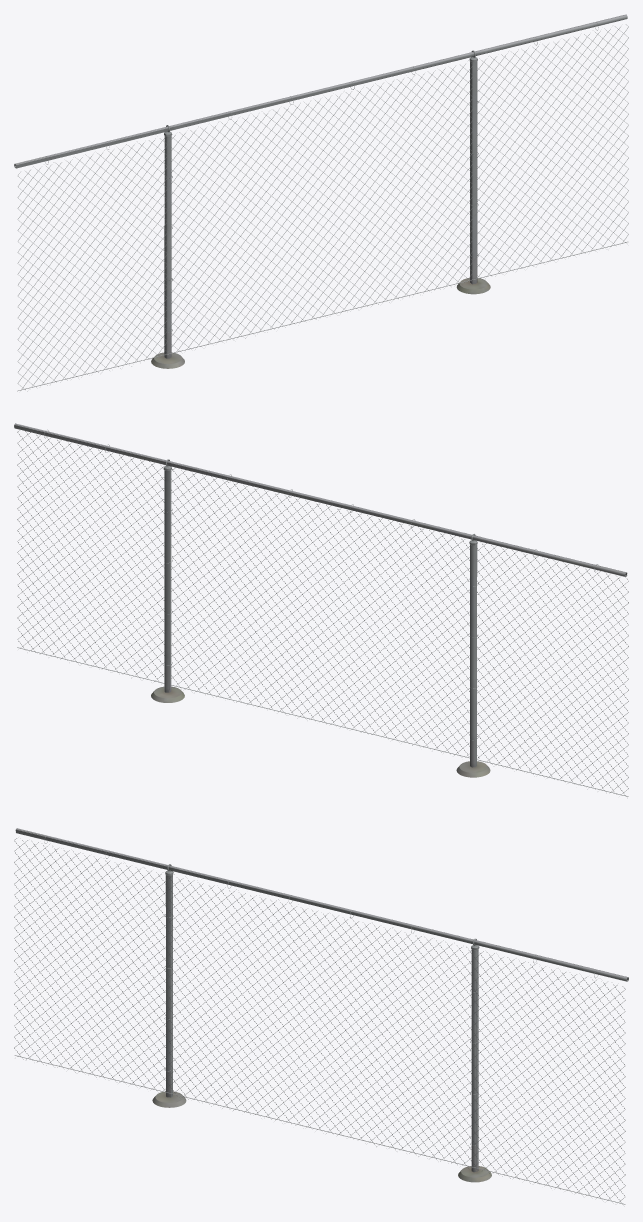
Rendered from chain-link-fence-light.glb.
3 views of the same model, one above another, from view 1: azimuth 30°, elevation 25°; view 2: azimuth 150°, elevation 25°; view 3: azimuth 330°, elevation 25° (orthographic).
Visible parts, largest first — view 1: chain-link-fence_body; view 2: chain-link-fence_body; view 3: chain-link-fence_body.
Part boxes in pixels (x1,y1,x2,y2): chain-link-fence_body: [14, 14, 628, 391]; chain-link-fence_body: [14, 423, 628, 796]; chain-link-fence_body: [14, 828, 628, 1204].
Bounding box in the file's own units: 5 × 1.85 × 0.2415.
1 material, 1 textured.
